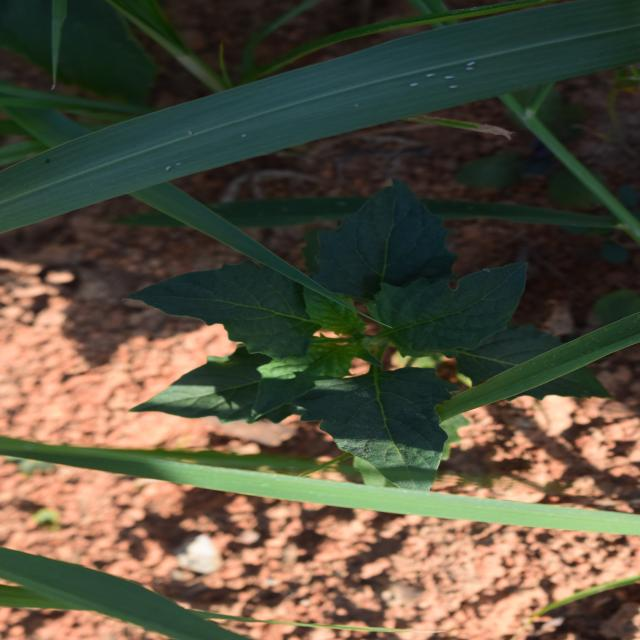Black_nightshade: (202, 137, 430, 526)
